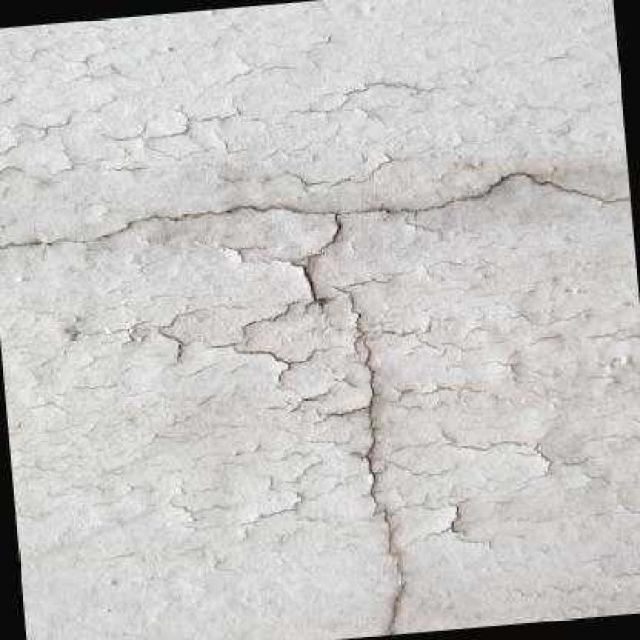D00: (0, 165, 631, 319), (328, 277, 413, 634)
